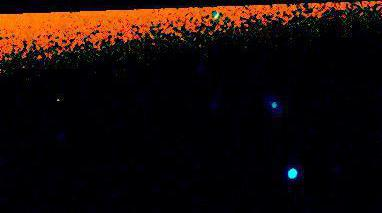star: (38, 83, 68, 113)
